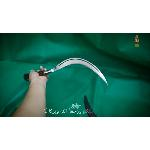Celurit: (17, 54, 116, 90)
